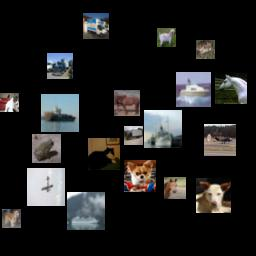airplane: (27, 168, 65, 206), (204, 124, 236, 156)
cat: (88, 138, 120, 170), (0, 93, 19, 112)
dog: (196, 178, 231, 213), (124, 160, 156, 192), (157, 28, 176, 47), (2, 209, 21, 228)
frog: (32, 134, 61, 163), (196, 40, 215, 59)
ship: (41, 94, 79, 132), (144, 110, 182, 148), (67, 192, 105, 230), (176, 72, 211, 107)
truck: (83, 13, 109, 39), (47, 53, 73, 79), (124, 126, 143, 145)
